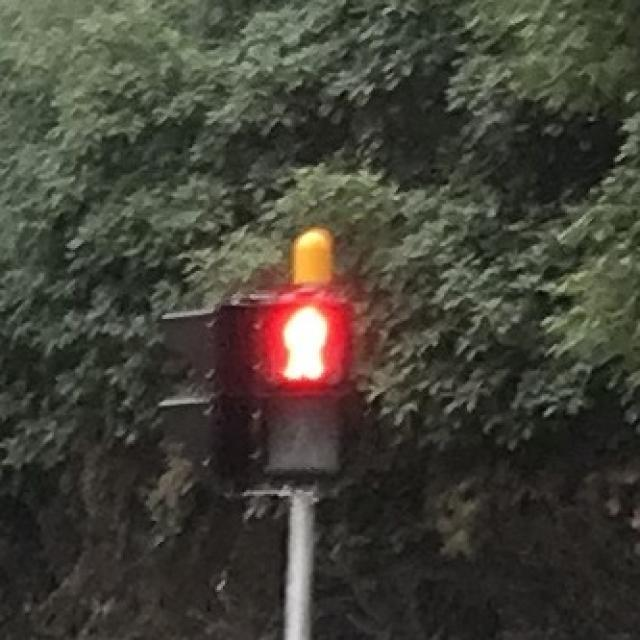red-crossing: (261, 300, 348, 384)
